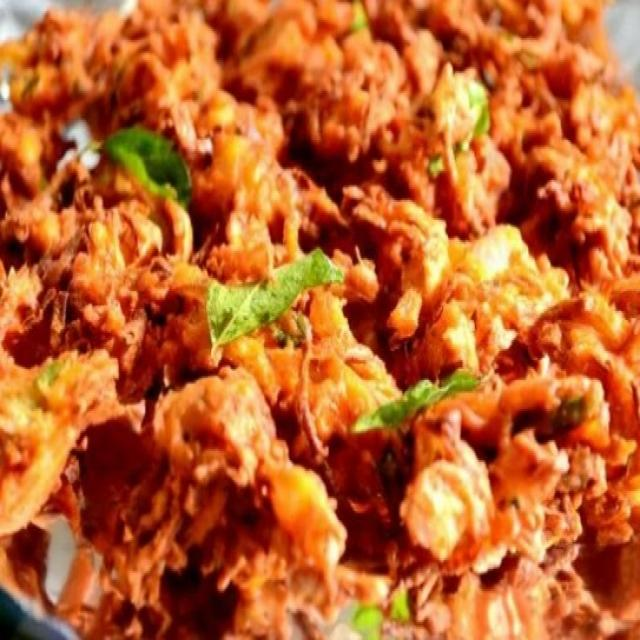Onion Pakora: (0, 3, 640, 640)
